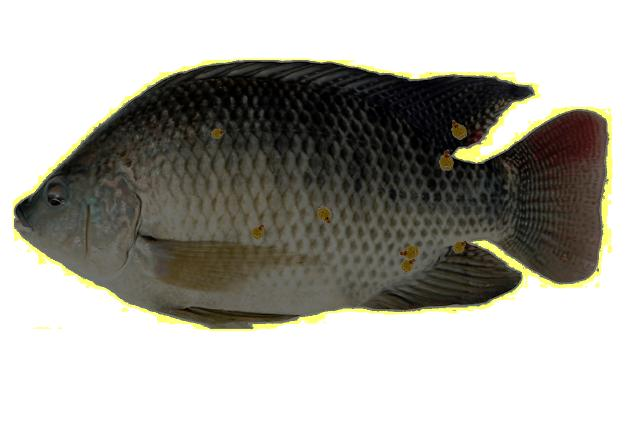Parasitic Disease: (15, 61, 606, 328)
